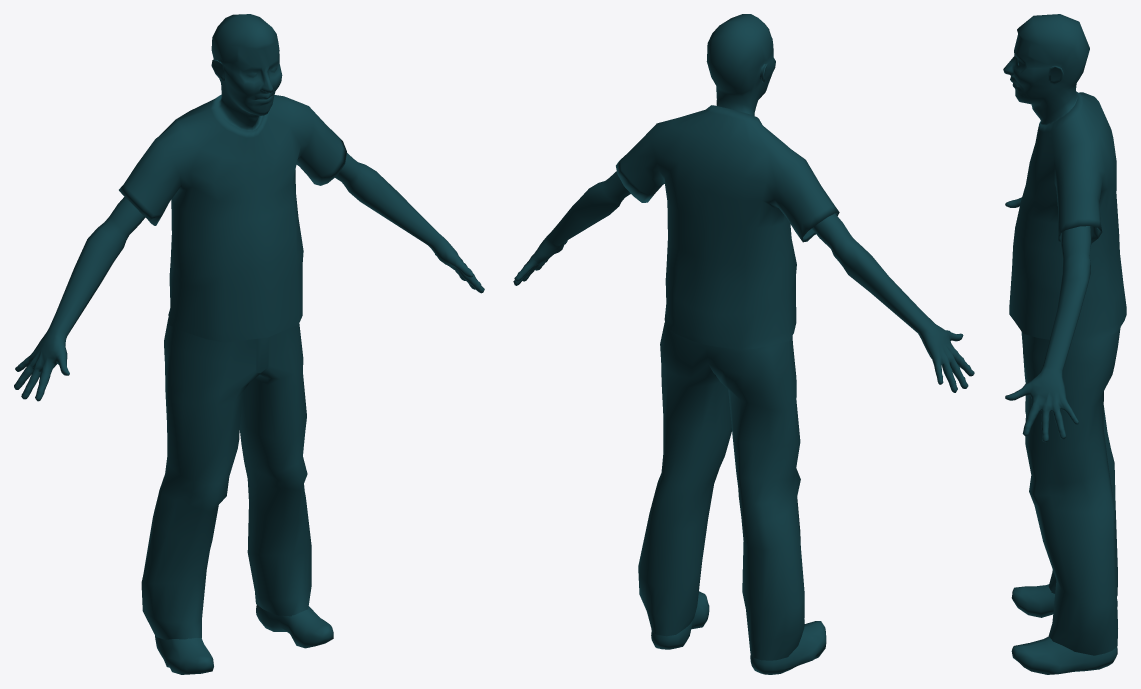
Rendered from Patrick.obj.
The picture shows the model from 3 angles, left to right: view 1: azimuth 30°, elevation 25°; view 2: azimuth 150°, elevation 25°; view 3: azimuth 270°, elevation 25°; orthographic projection. The views are drawn at different scales.
Bounding box in the file's own units: 1.53 × 2.03 × 0.365.
